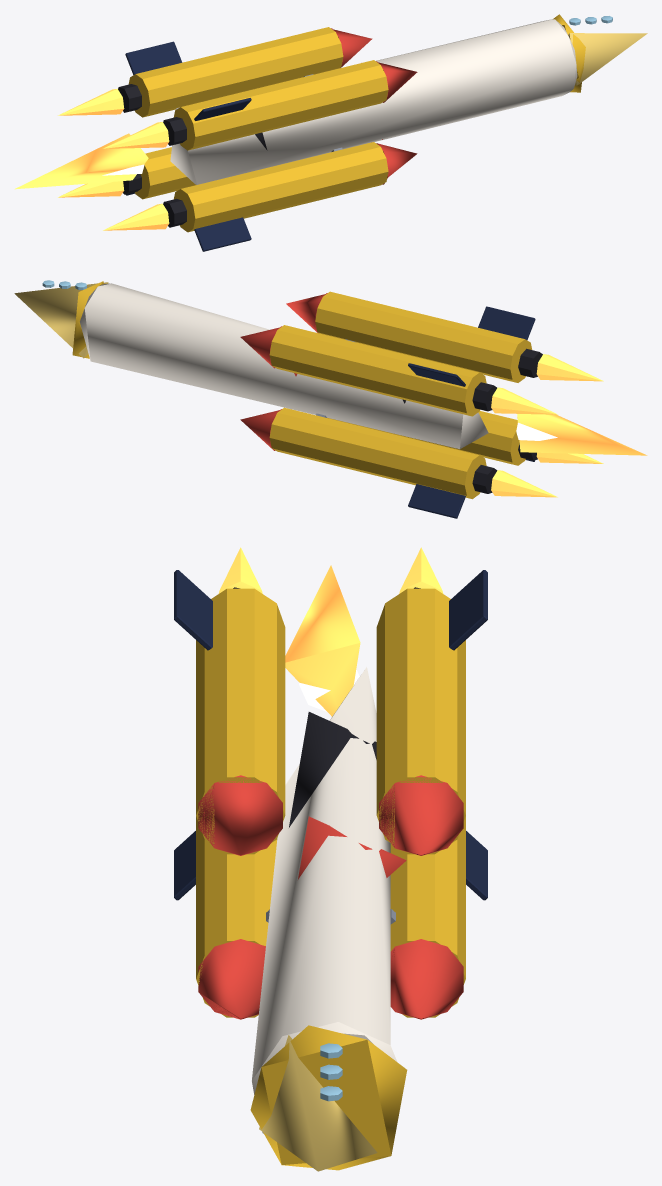
The model's file is rocket.glb.
3 renders of one model, top to bottom at view 1: azimuth 30°, elevation 25°; view 2: azimuth 150°, elevation 25°; view 3: azimuth 270°, elevation 25°, orthographic. The views are drawn at different scales.
Parts seen in each view (by area): view 1: rocket; view 2: rocket; view 3: rocket.
Part boxes in pixels (box(x1,y1,x2,y2)): rocket: box(14, 14, 647, 251); rocket: box(14, 280, 647, 518); rocket: box(174, 547, 487, 1171).
Size of the model in its own units: 118 by 25.32 by 25.32.
1 material, 1 textured.
